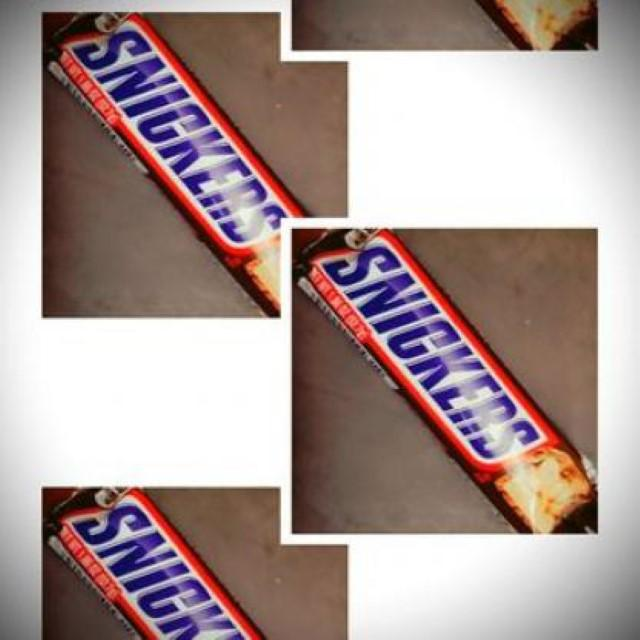snickers_chocolate: (60, 25, 297, 305), (320, 238, 558, 494), (63, 485, 247, 640)
